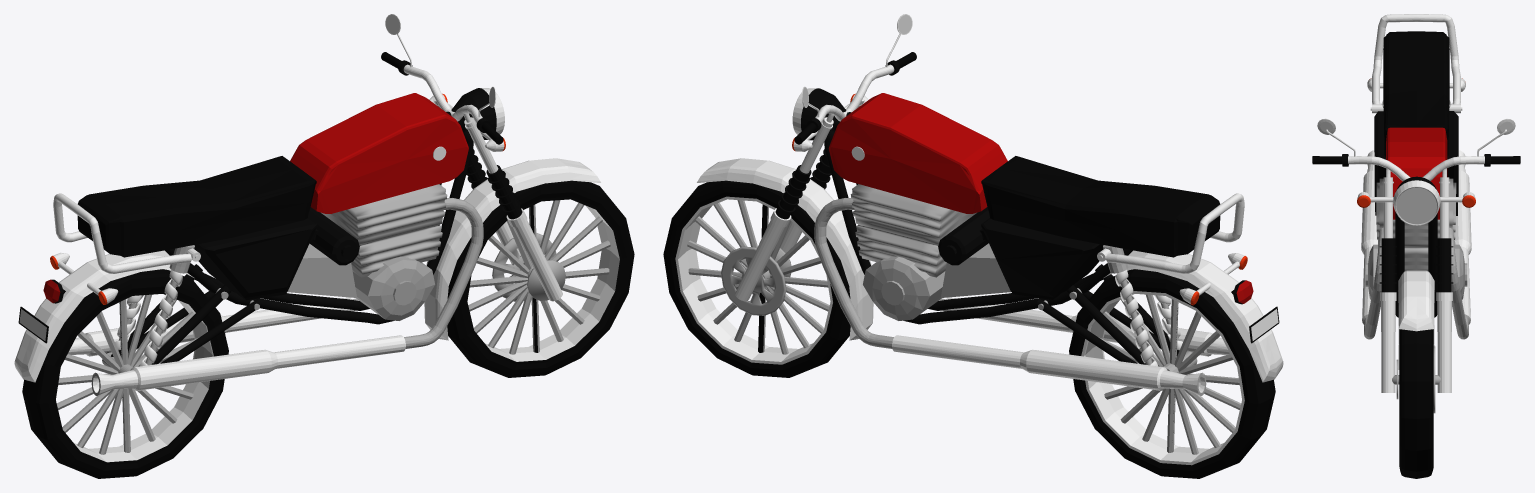
Rendered from motor.obj.
The picture shows the model from 3 angles, left to right: view 1: azimuth 30°, elevation 25°; view 2: azimuth 150°, elevation 25°; view 3: azimuth 270°, elevation 25°; orthographic projection. The views are drawn at different scales.
Parts seen in each view (by area): view 1: back_wheel_Cylinder.027, Front_wheel_Cylinder.020, seat_Cube, tank_Cube.002, exhaust_Cylinder.004, engine_1_Cube.003, engine_2_Cube.001, Front_water_Cube.006, back_water_Cube.005, frame_Cylinder.001, front_bumper_Cylinder.008, engine_4_Cylinder (+11 smaller); view 2: back_wheel_Cylinder.027, Front_wheel_Cylinder.020, seat_Cube, tank_Cube.002, exhaust_Cylinder.004, engine_1_Cube.003, engine_2_Cube.001, Front_water_Cube.006, back_water_Cube.005, frame_Cylinder.001, front_bumper_Cylinder.008, engine_4_Cylinder (+11 smaller); view 3: seat_Cube, front_bumper_Cylinder.008, Front_wheel_Cylinder.020, exhaust_Cylinder.004, tank_Cube.002, Front_water_Cube.006, engine_1_Cube.003, fender_back_Circle.001, Headlight_Cylinder.023, steering_Cylinder.017, frame_Cylinder.001, engine_2_Cube.001 (+5 smaller).
Part boxes in pixels (<box>): back_wheel_Cylinder.027: <box>22,269,228,478</box>; Front_wheel_Cylinder.020: <box>447,180,634,377</box>; seat_Cube: <box>77,156,316,257</box>; tank_Cube.002: <box>290,93,468,213</box>; exhaust_Cylinder.004: <box>68,198,483,395</box>; engine_1_Cube.003: <box>321,184,447,277</box>; engine_2_Cube.001: <box>194,218,318,300</box>; Front_water_Cube.006: <box>424,158,600,340</box>; back_water_Cube.005: <box>14,250,223,382</box>; frame_Cylinder.001: <box>165,128,473,324</box>; front_bumper_Cylinder.008: <box>433,97,562,301</box>; engine_4_Cylinder: <box>352,256,434,320</box>; back_wheel_Cylinder.027: <box>1069,269,1275,478</box>; Front_wheel_Cylinder.020: <box>663,180,850,377</box>; seat_Cube: <box>981,156,1220,257</box>; tank_Cube.002: <box>828,93,1007,213</box>; exhaust_Cylinder.004: <box>814,198,1229,395</box>; engine_1_Cube.003: <box>850,184,976,277</box>; engine_2_Cube.001: <box>980,218,1103,299</box>; Front_water_Cube.006: <box>697,158,873,340</box>; back_water_Cube.005: <box>1074,250,1283,382</box>; frame_Cylinder.001: <box>824,128,1132,324</box>; front_bumper_Cylinder.008: <box>735,97,864,301</box>; engine_4_Cylinder: <box>863,256,945,320</box>; seat_Cube: <box>1383,31,1449,156</box>; front_bumper_Cylinder.008: <box>1379,168,1453,392</box>; Front_wheel_Cylinder.020: <box>1399,329,1433,478</box>; exhaust_Cylinder.004: <box>1361,150,1471,339</box>; tank_Cube.002: <box>1386,127,1447,219</box>; Front_water_Cube.006: <box>1398,270,1434,369</box>; engine_1_Cube.003: <box>1376,178,1456,270</box>; fender_back_Circle.001: <box>1372,14,1460,104</box>; Headlight_Cylinder.023: <box>1393,176,1440,225</box>; steering_Cylinder.017: <box>1312,154,1520,181</box>; frame_Cylinder.001: <box>1395,212,1437,317</box>; engine_2_Cube.001: <box>1374,111,1458,196</box>.
Size of the model in its own units: 7.39 by 4.01 by 2.43.
